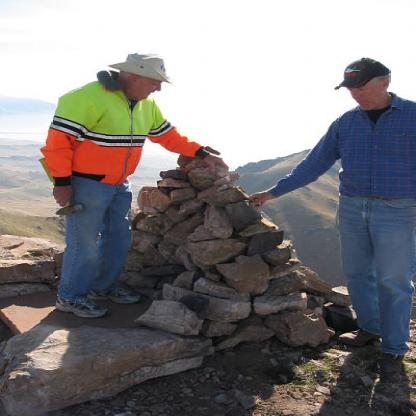person: (41, 33, 196, 315), (290, 47, 415, 387)
